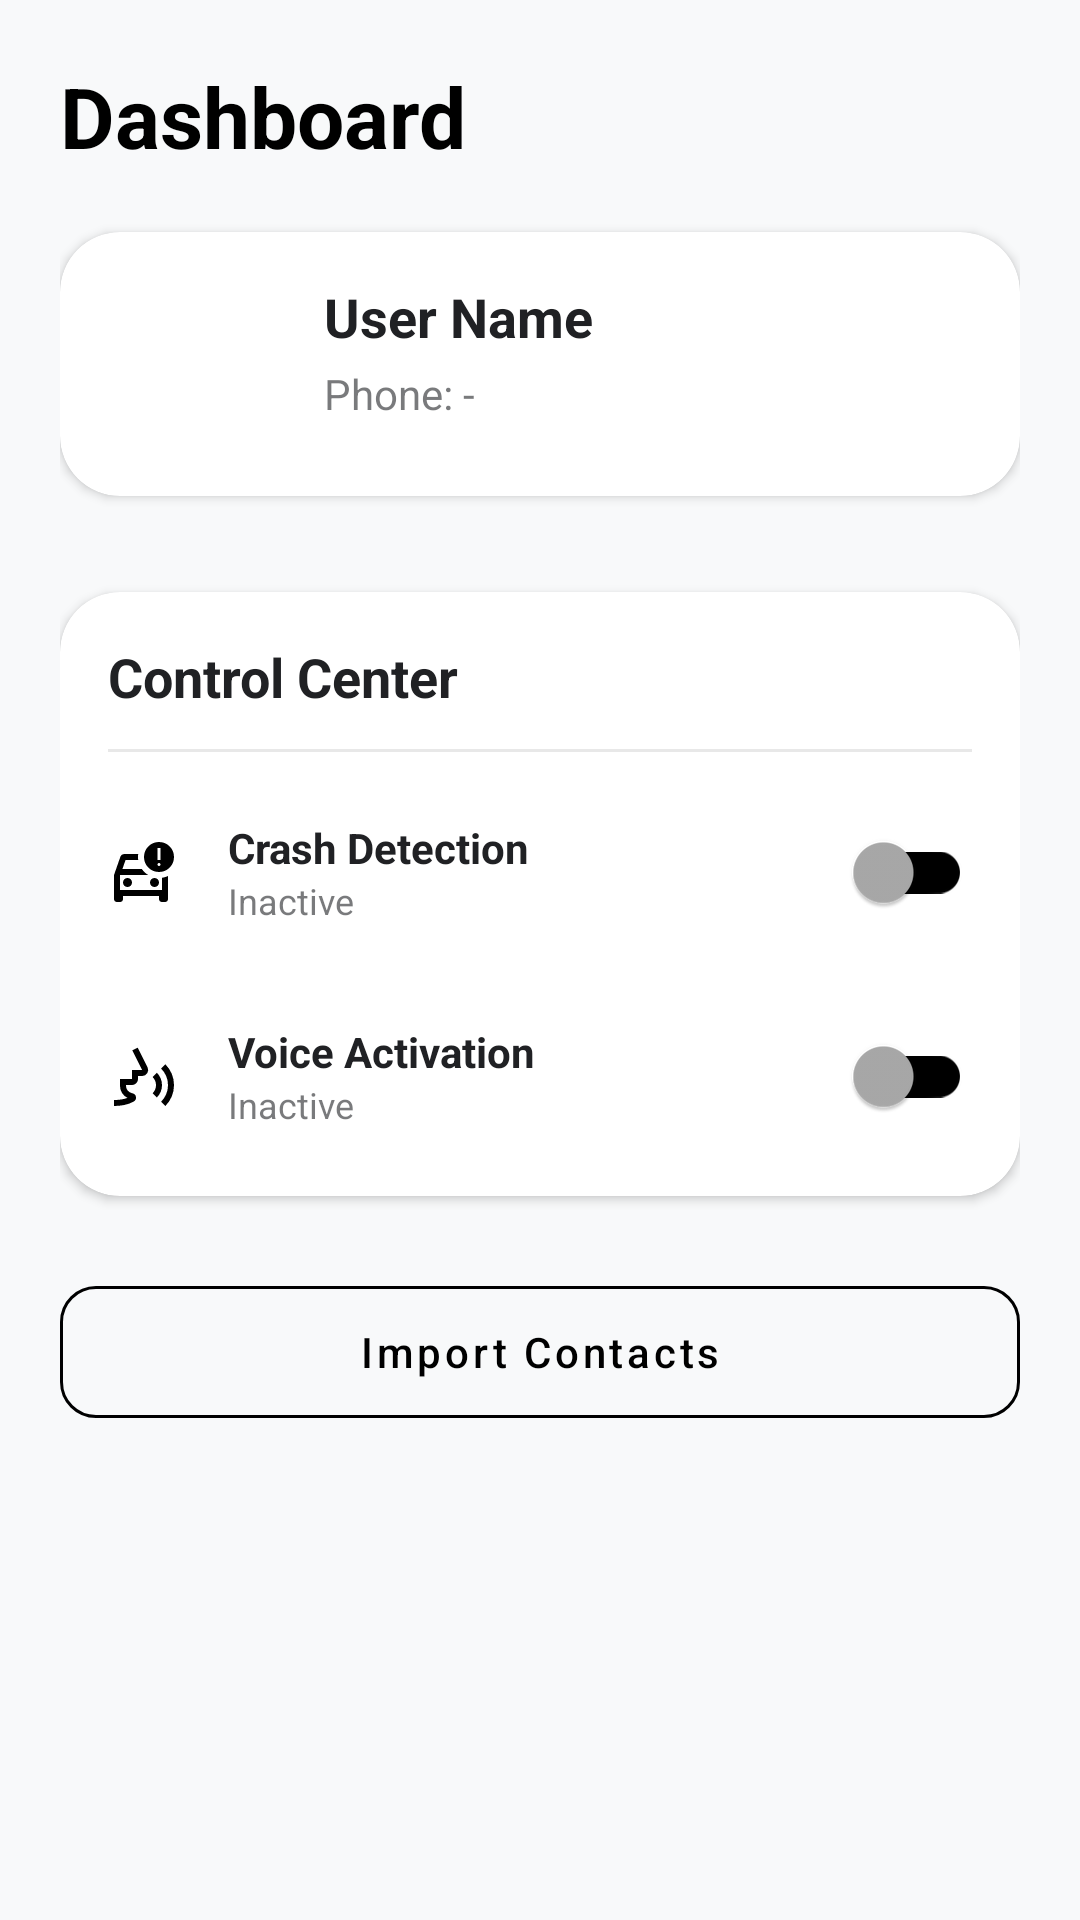

Screen size 1080px×1920px. Icon name, then its center in pixels as point (x, y):
voice selection: point (144, 1076)
